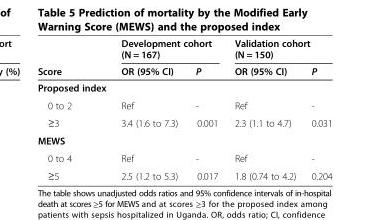table: (36, 37, 331, 181)
table column: (225, 37, 303, 181), (36, 37, 112, 181), (112, 37, 186, 181), (186, 37, 225, 181), (303, 37, 331, 181)
table column header: (36, 37, 331, 79)
table projected row header: (36, 131, 331, 149), (36, 79, 331, 96)
table row: (36, 37, 331, 62), (36, 113, 331, 131), (36, 131, 331, 149), (36, 62, 331, 79), (36, 79, 331, 96), (36, 96, 331, 113), (36, 149, 331, 166), (36, 166, 331, 181)
table spanning cell: (36, 37, 112, 79), (112, 37, 225, 62), (225, 37, 331, 62)
